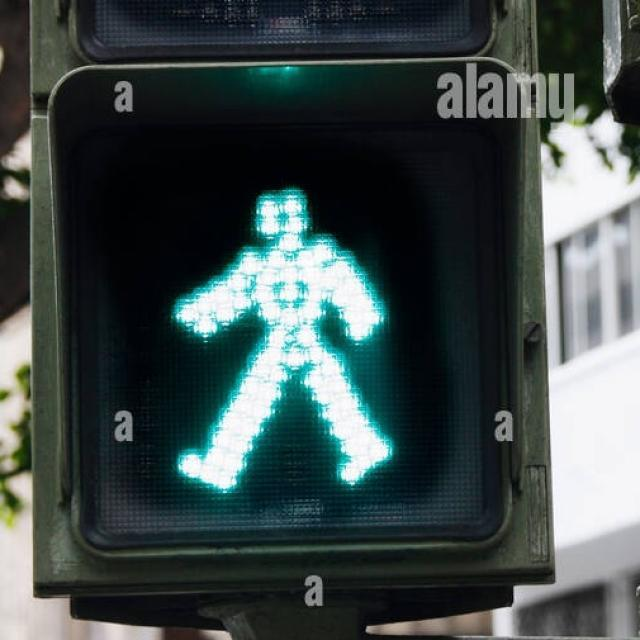green_light: (162, 160, 402, 498)
